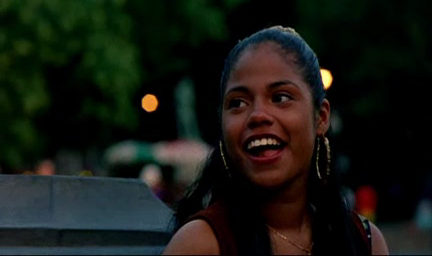cu: (1, 1, 432, 256)
face: (221, 56, 311, 185)
person: (160, 24, 388, 254)
